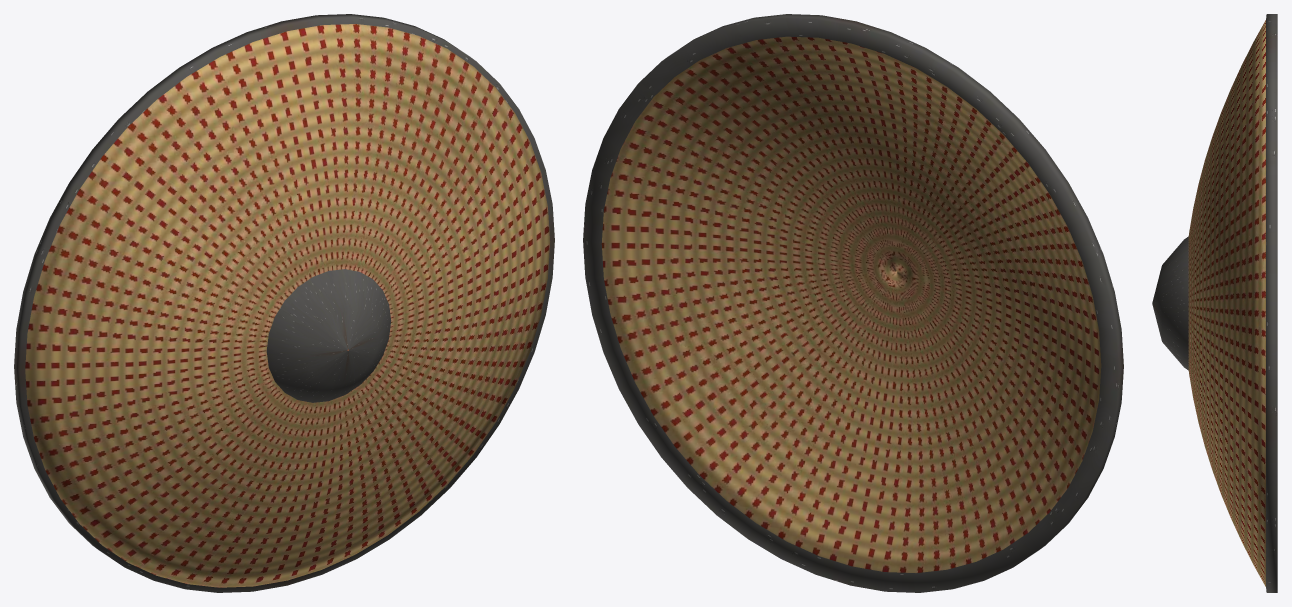
File: hasir_kalkan.glb
The picture shows the model from 3 angles, left to right: view 1: azimuth 30°, elevation 25°; view 2: azimuth 150°, elevation 25°; view 3: azimuth 270°, elevation 25°; orthographic projection. The views are drawn at different scales.
Parts seen in each view (by area): view 1: hasir_kalkan; view 2: hasir_kalkan; view 3: hasir_kalkan.
Part boxes in pixels (x1,y1,x2,y2): hasir_kalkan: [14, 14, 554, 592]; hasir_kalkan: [583, 14, 1123, 592]; hasir_kalkan: [1152, 14, 1277, 592].
Bounding box in the file's own units: 0.632 × 0.632 × 0.1365.
2 materials, 2 textured.
